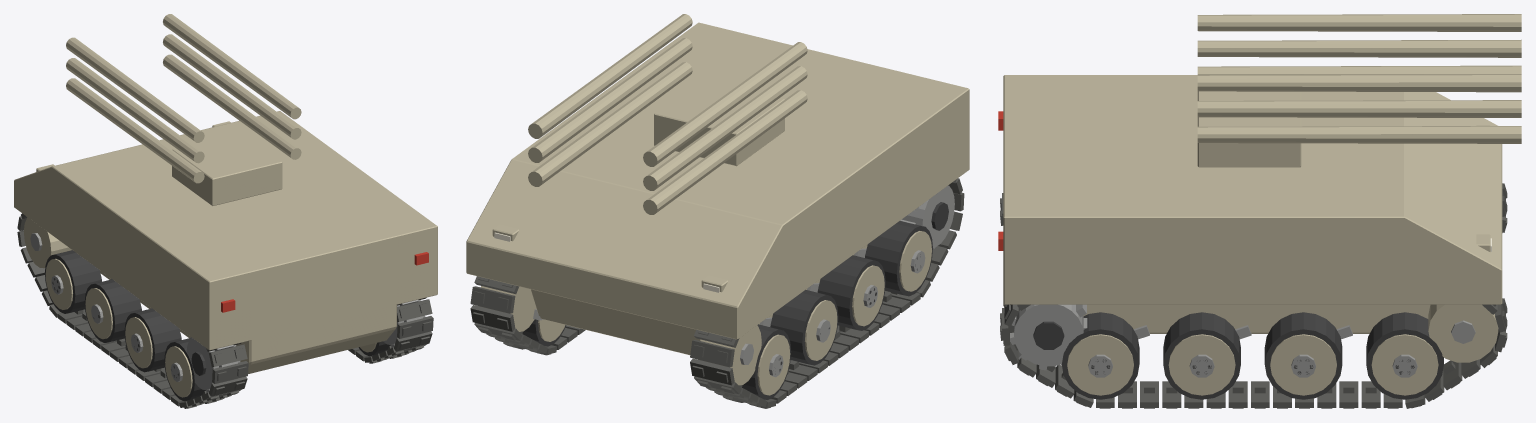
The model's file is usa_td_ontos.glb.
The picture shows the model from 3 angles, left to right: view 1: azimuth 30°, elevation 25°; view 2: azimuth 150°, elevation 25°; view 3: azimuth 270°, elevation 25°; orthographic projection. The views are drawn at different scales.
Parts seen in each view (by area): view 1: body, barrel, turret; view 2: body, barrel, turret; view 3: body, barrel, turret.
Boxes of the visible parts, left/top/right/bottom form: body: left=14, top=111, right=437, bottom=408; barrel: left=66, top=14, right=301, bottom=183; turret: left=172, top=132, right=282, bottom=205; body: left=466, top=22, right=969, bottom=408; barrel: left=528, top=14, right=807, bottom=214; turret: left=654, top=79, right=784, bottom=166; body: left=998, top=75, right=1507, bottom=408; barrel: left=1197, top=14, right=1521, bottom=143; turret: left=1197, top=91, right=1301, bottom=167.
Bounding box in the file's own units: 2.6 × 2.53 × 4.04.
